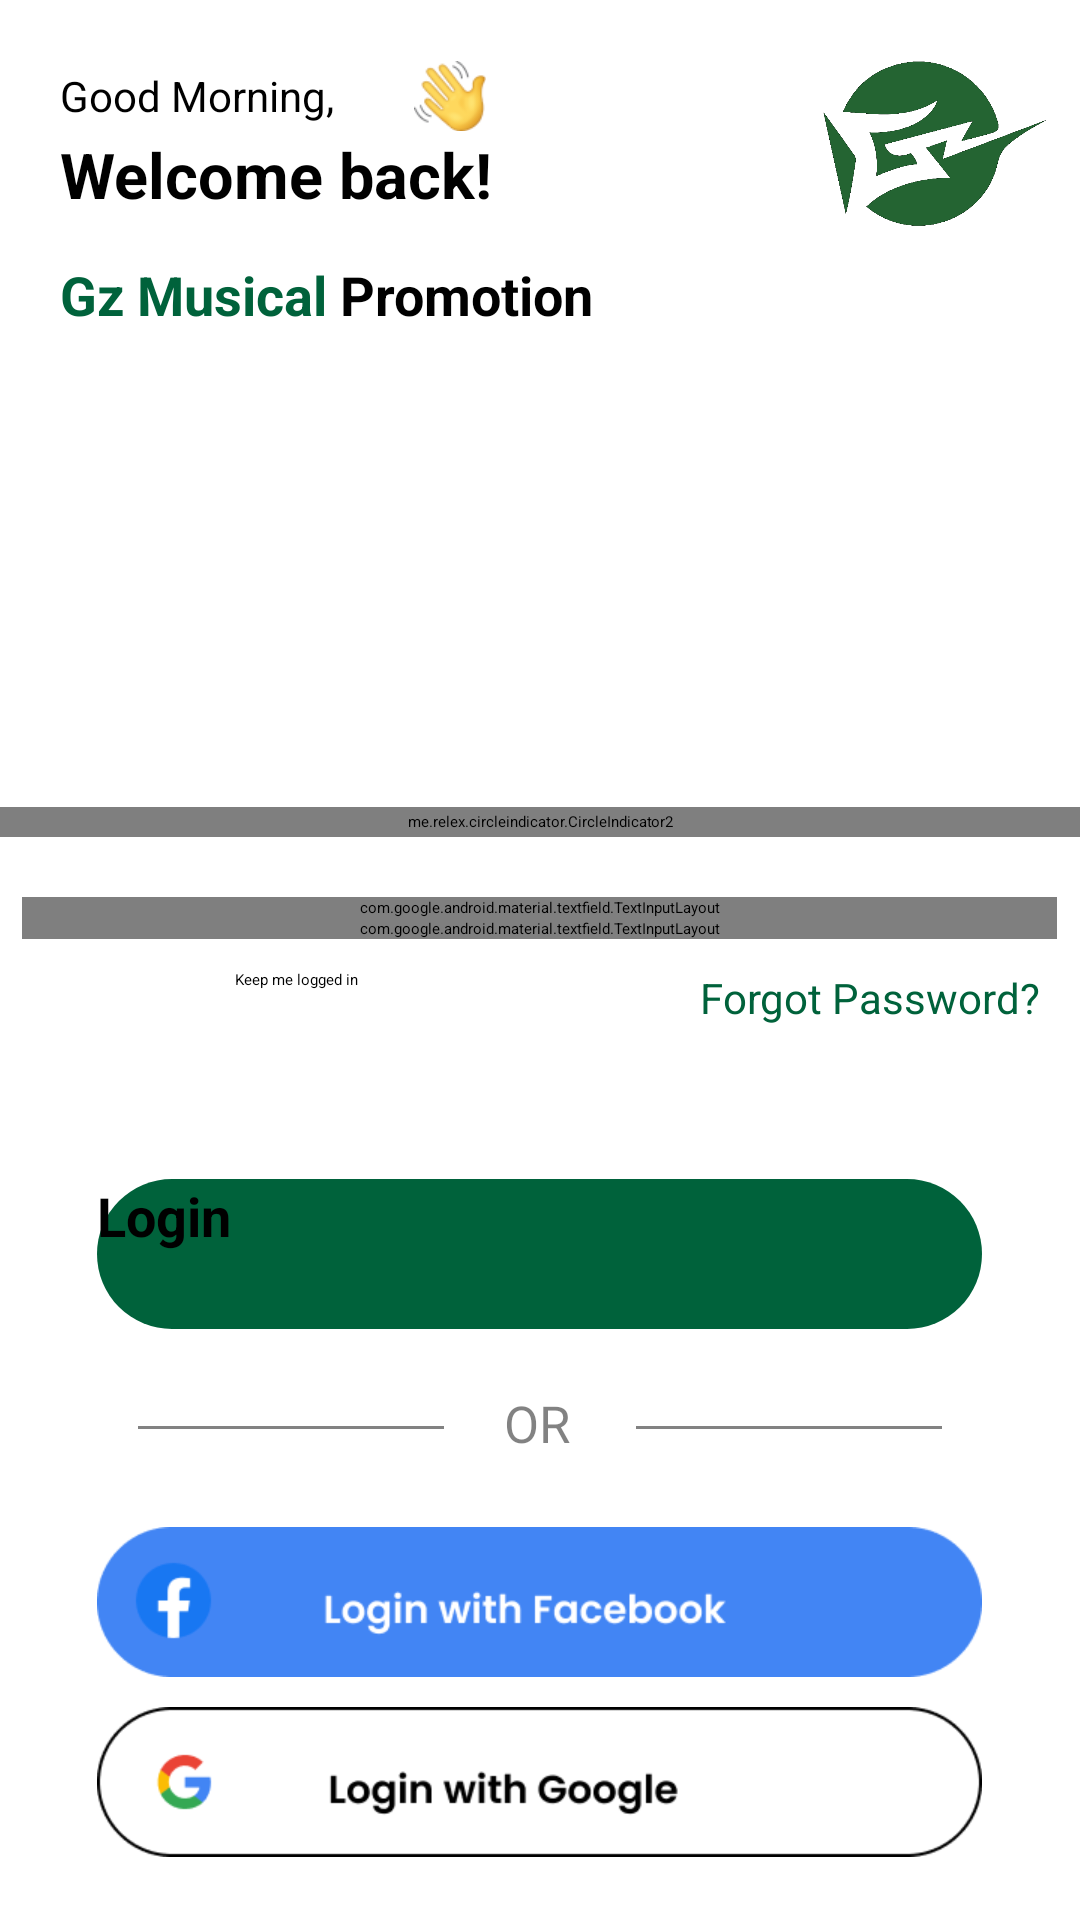

Point at icon controls on the screen. Image size 1080x1920, points as point (x, y).
hello: point (450, 96)
